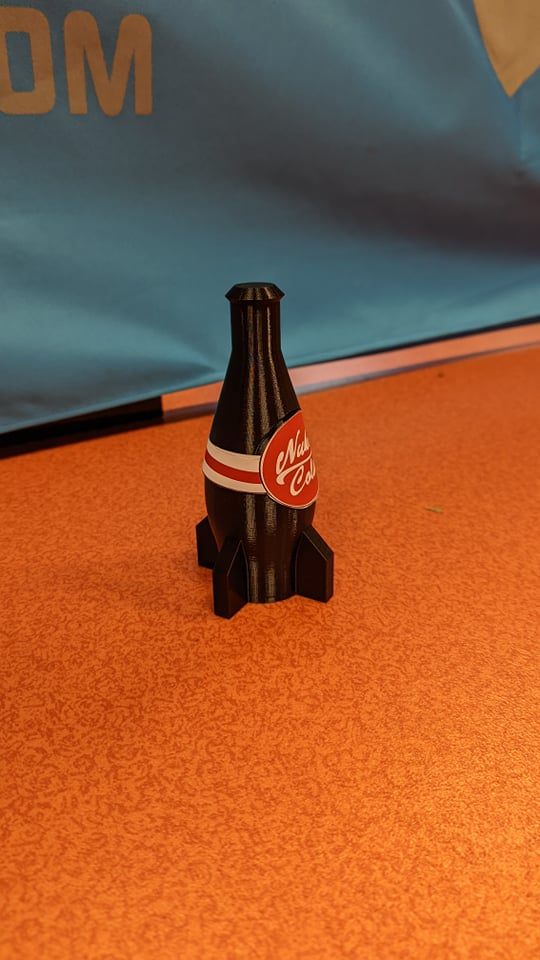bottle: (178, 269, 344, 637)
